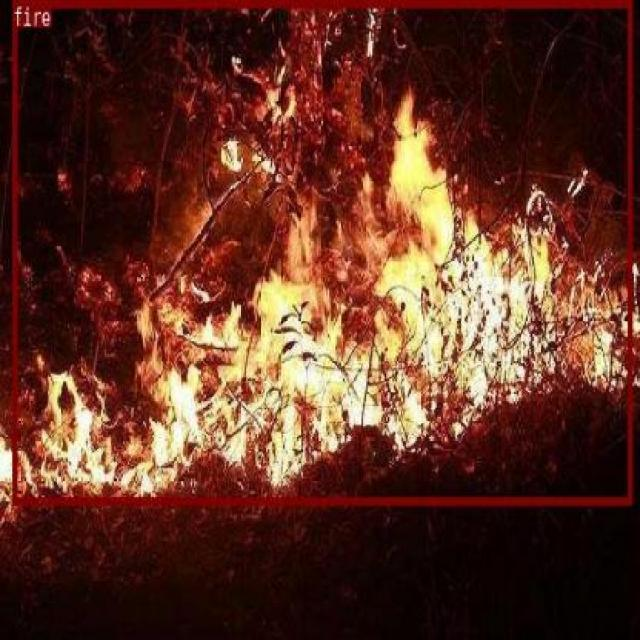Fire: (11, 0, 632, 503)
